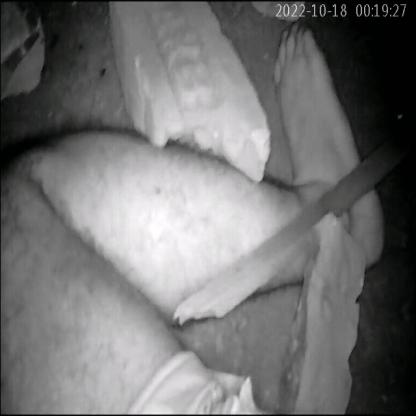leg: (86, 11, 396, 315)
